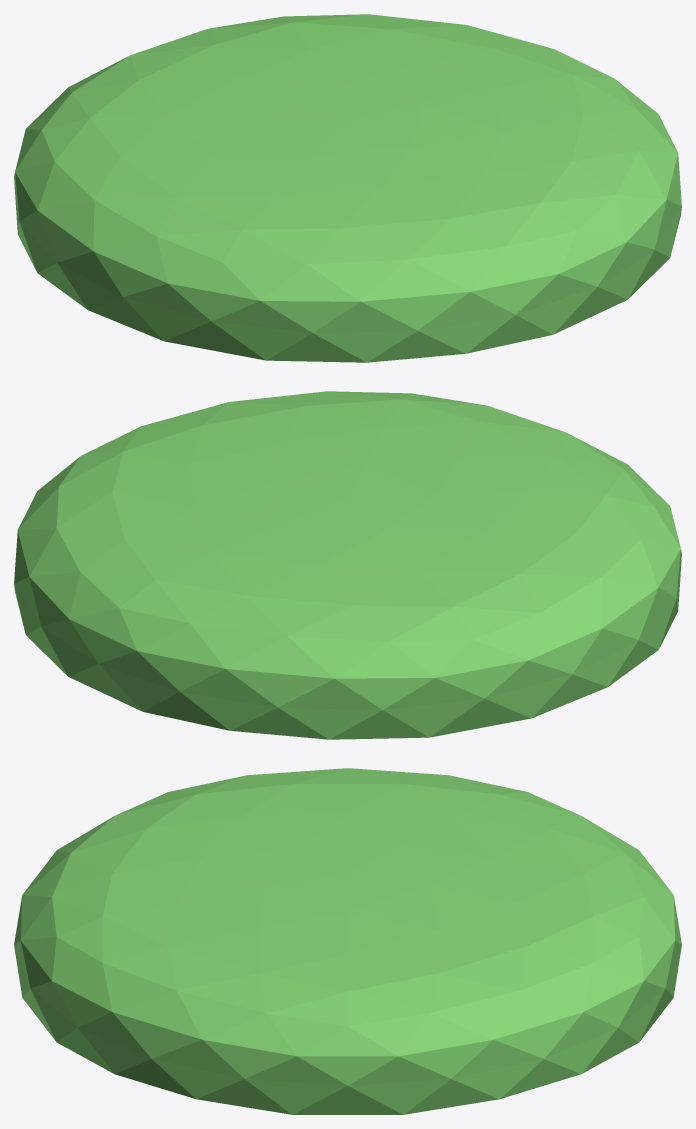
The model's file is ground.fbx.
3 renders of one model, top to bottom at view 1: azimuth 30°, elevation 25°; view 2: azimuth 150°, elevation 25°; view 3: azimuth 270°, elevation 25°, orthographic.
Parts seen in each view (by area): view 1: Icosphere; view 2: Icosphere; view 3: Icosphere.
Boxes of the visible parts, x1=… form: Icosphere: x1=14, y1=14, x2=681, y2=362; Icosphere: x1=14, y1=391, x2=681, y2=739; Icosphere: x1=14, y1=768, x2=681, y2=1114.
Bounding box in the file's own units: 13.77 × 2.34 × 13.77.
